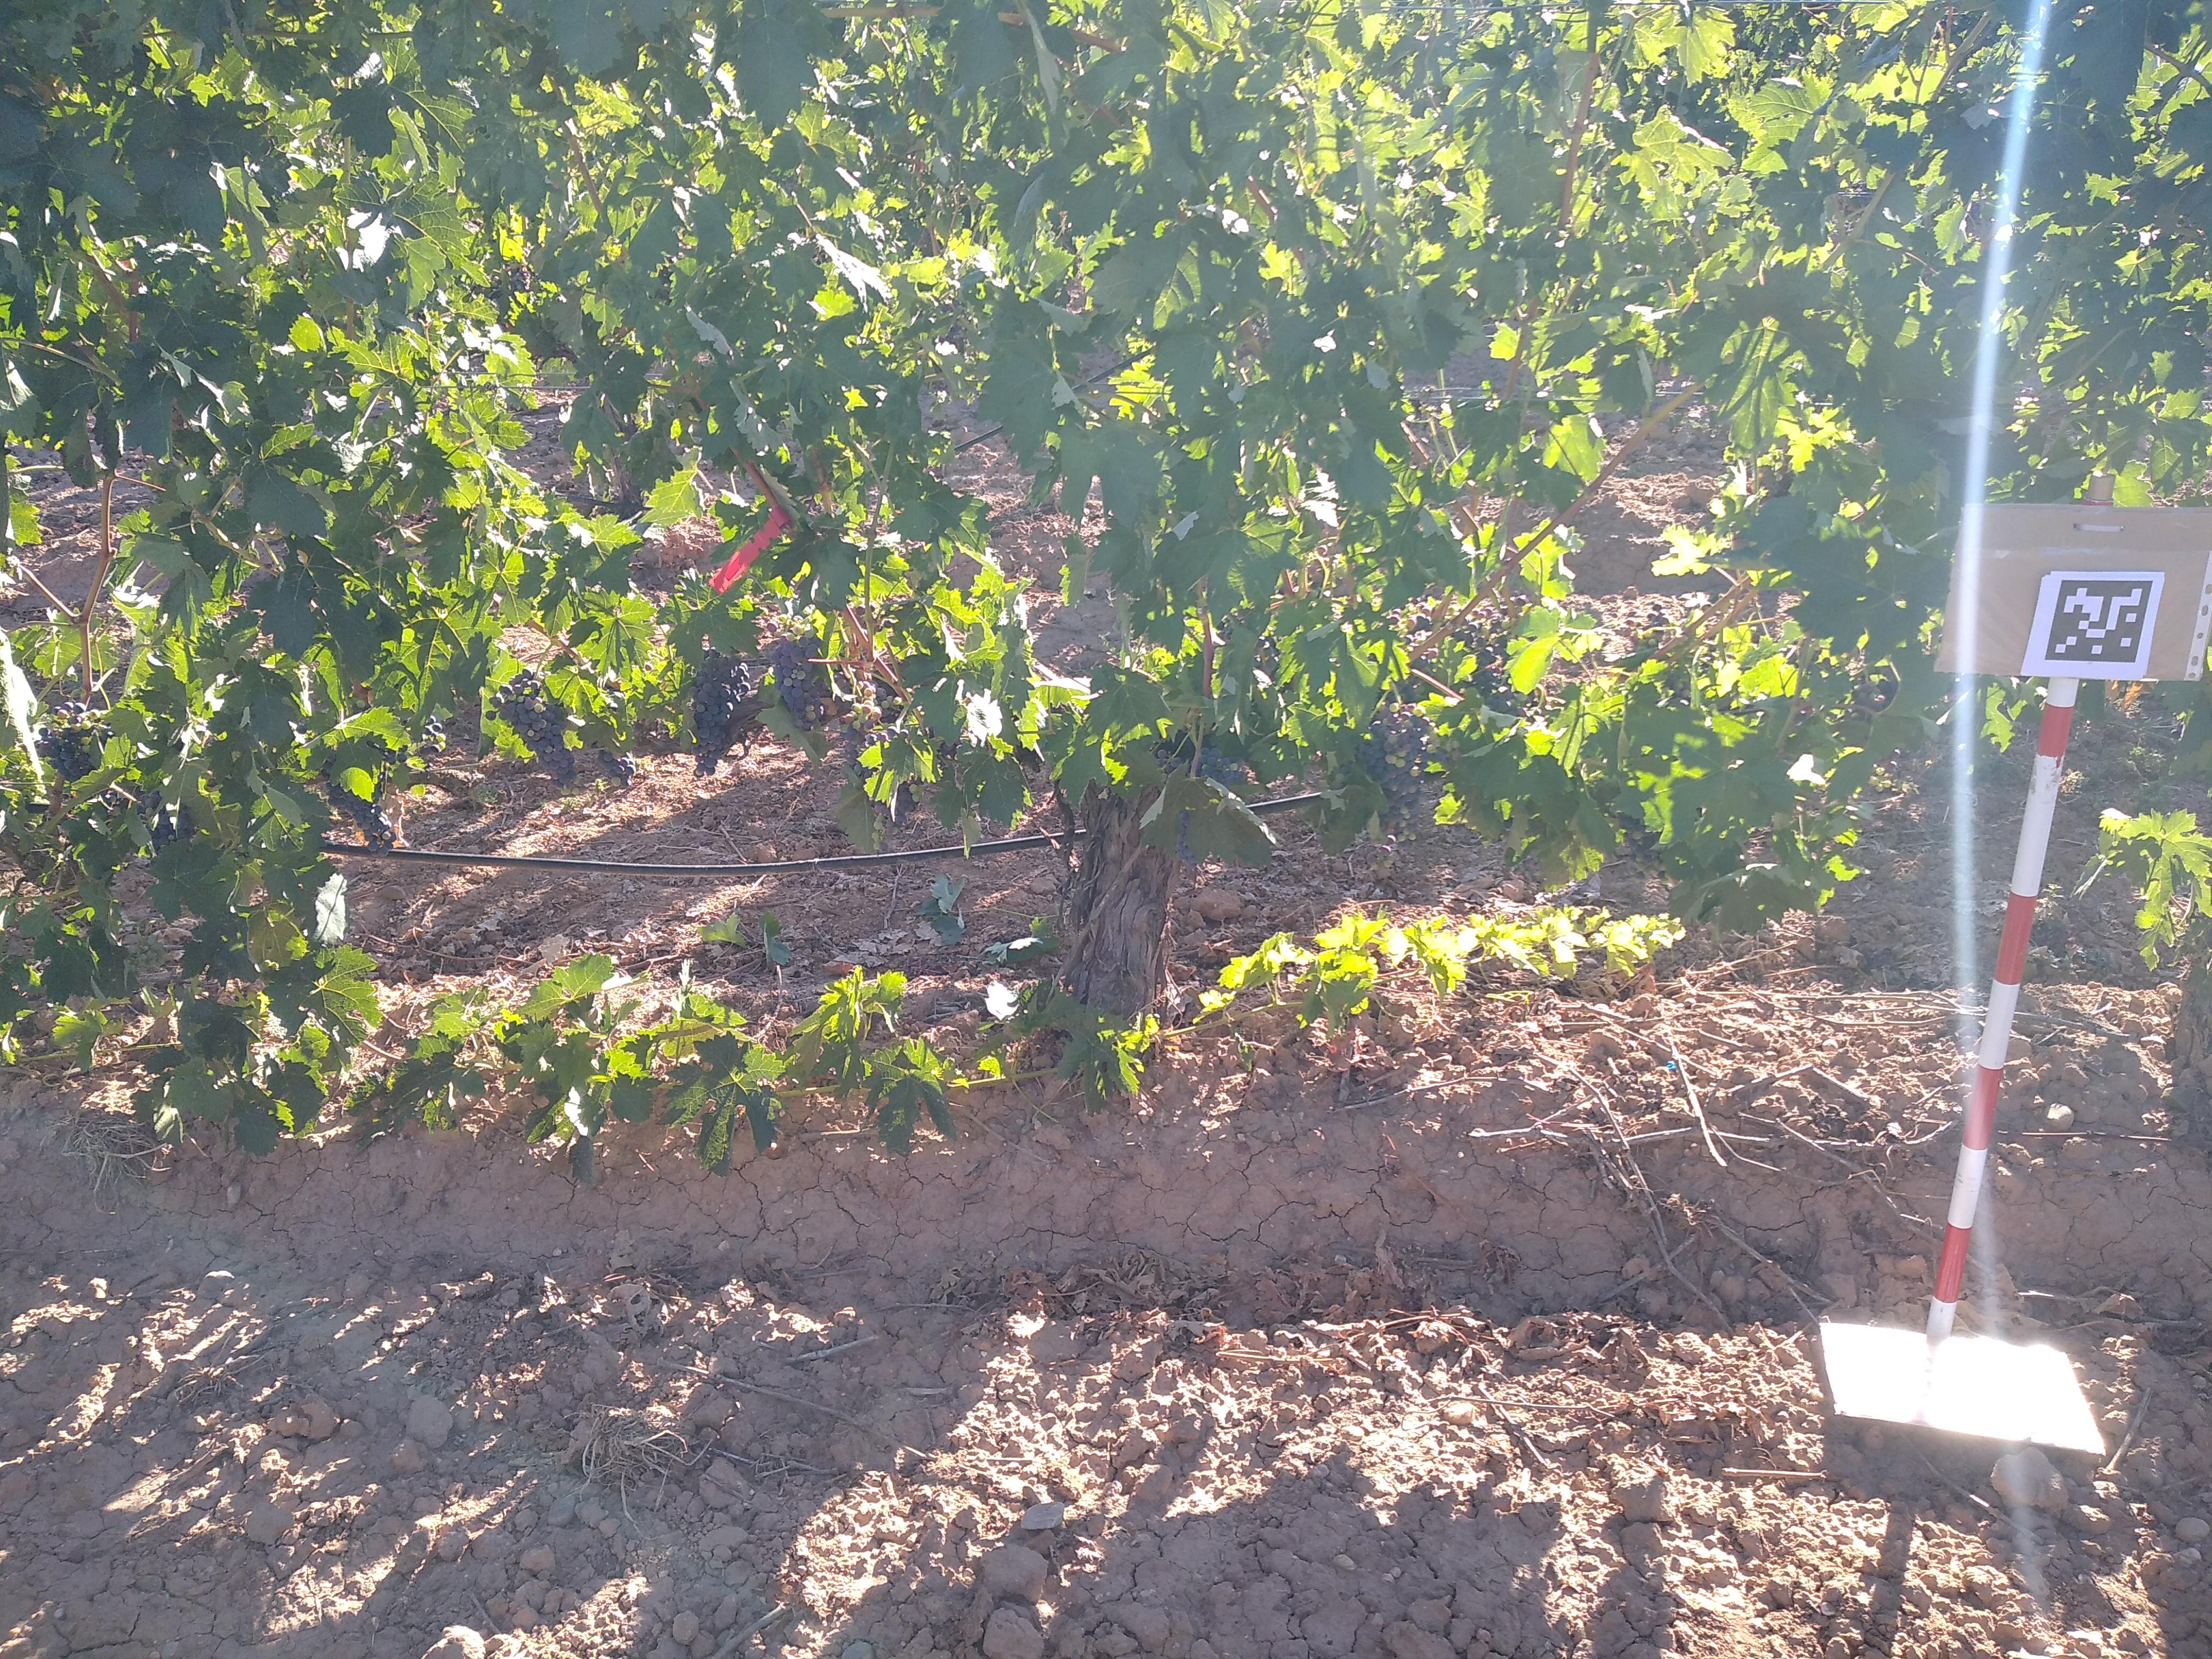QR: (2043, 580, 2155, 673)
